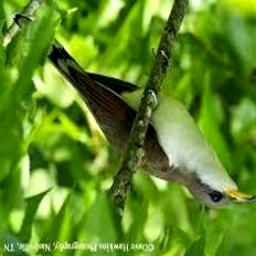Cuckoo: (13, 15, 256, 208)
